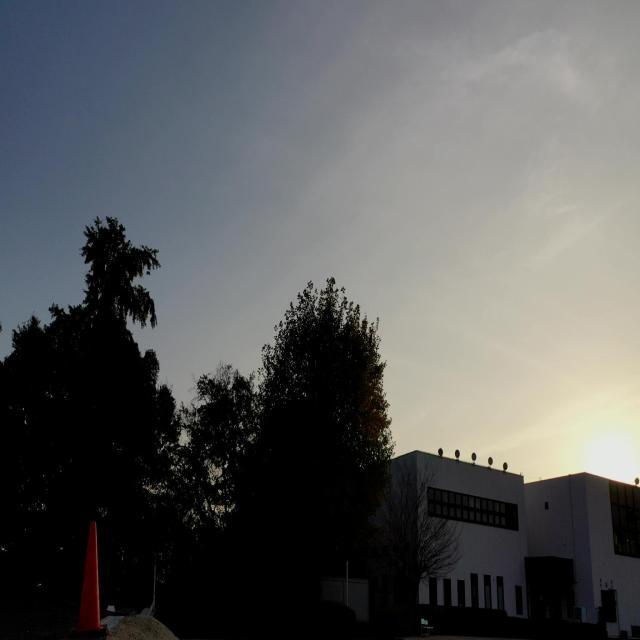Birds: (142, 264, 156, 280)
